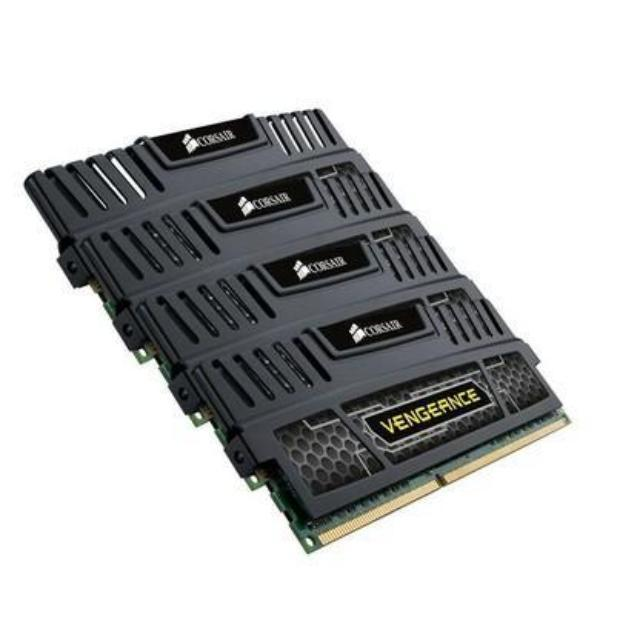RAM: (23, 79, 586, 561)
